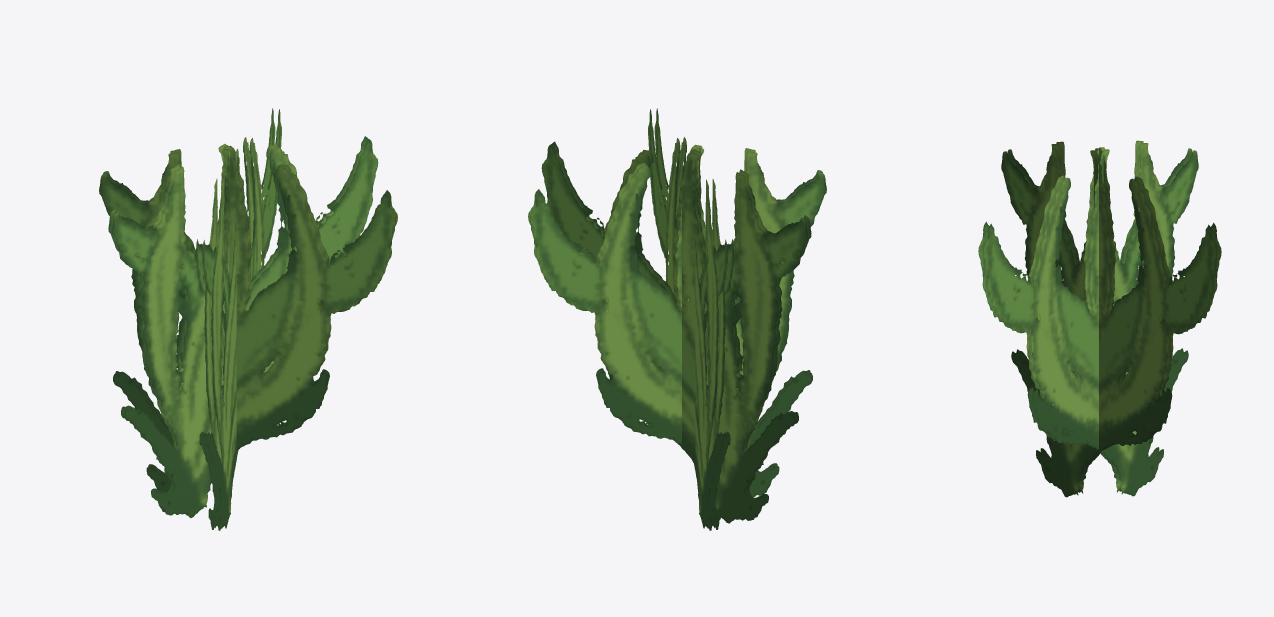
File: Algae_1.obj
3 views of the same model, side by side, from view 1: azimuth 30°, elevation 25°; view 2: azimuth 150°, elevation 25°; view 3: azimuth 270°, elevation 25° (orthographic).
Visible parts, largest first — view 1: polySurface4; view 2: polySurface4; view 3: polySurface4.
Part boxes in pixels (x1,y1,x2,y2): polySurface4: (99,108,397,530); polySurface4: (528,108,826,530); polySurface4: (978,140,1221,497).
Size of the model in its own units: 4.48 by 4.48 by 3.23.
Materials: 1 (1 with a texture image).
